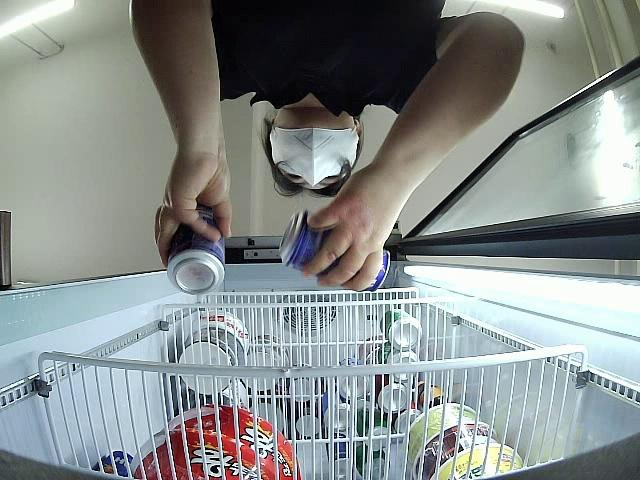00_hand: (301, 171, 401, 291), (153, 151, 231, 266)
14_welchsGrape: (279, 209, 390, 295), (164, 203, 227, 294)
